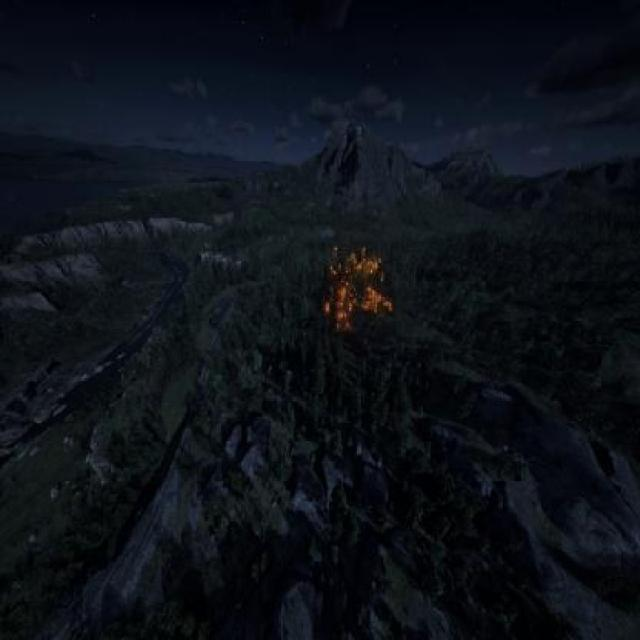Fire: (316, 237, 400, 339)
